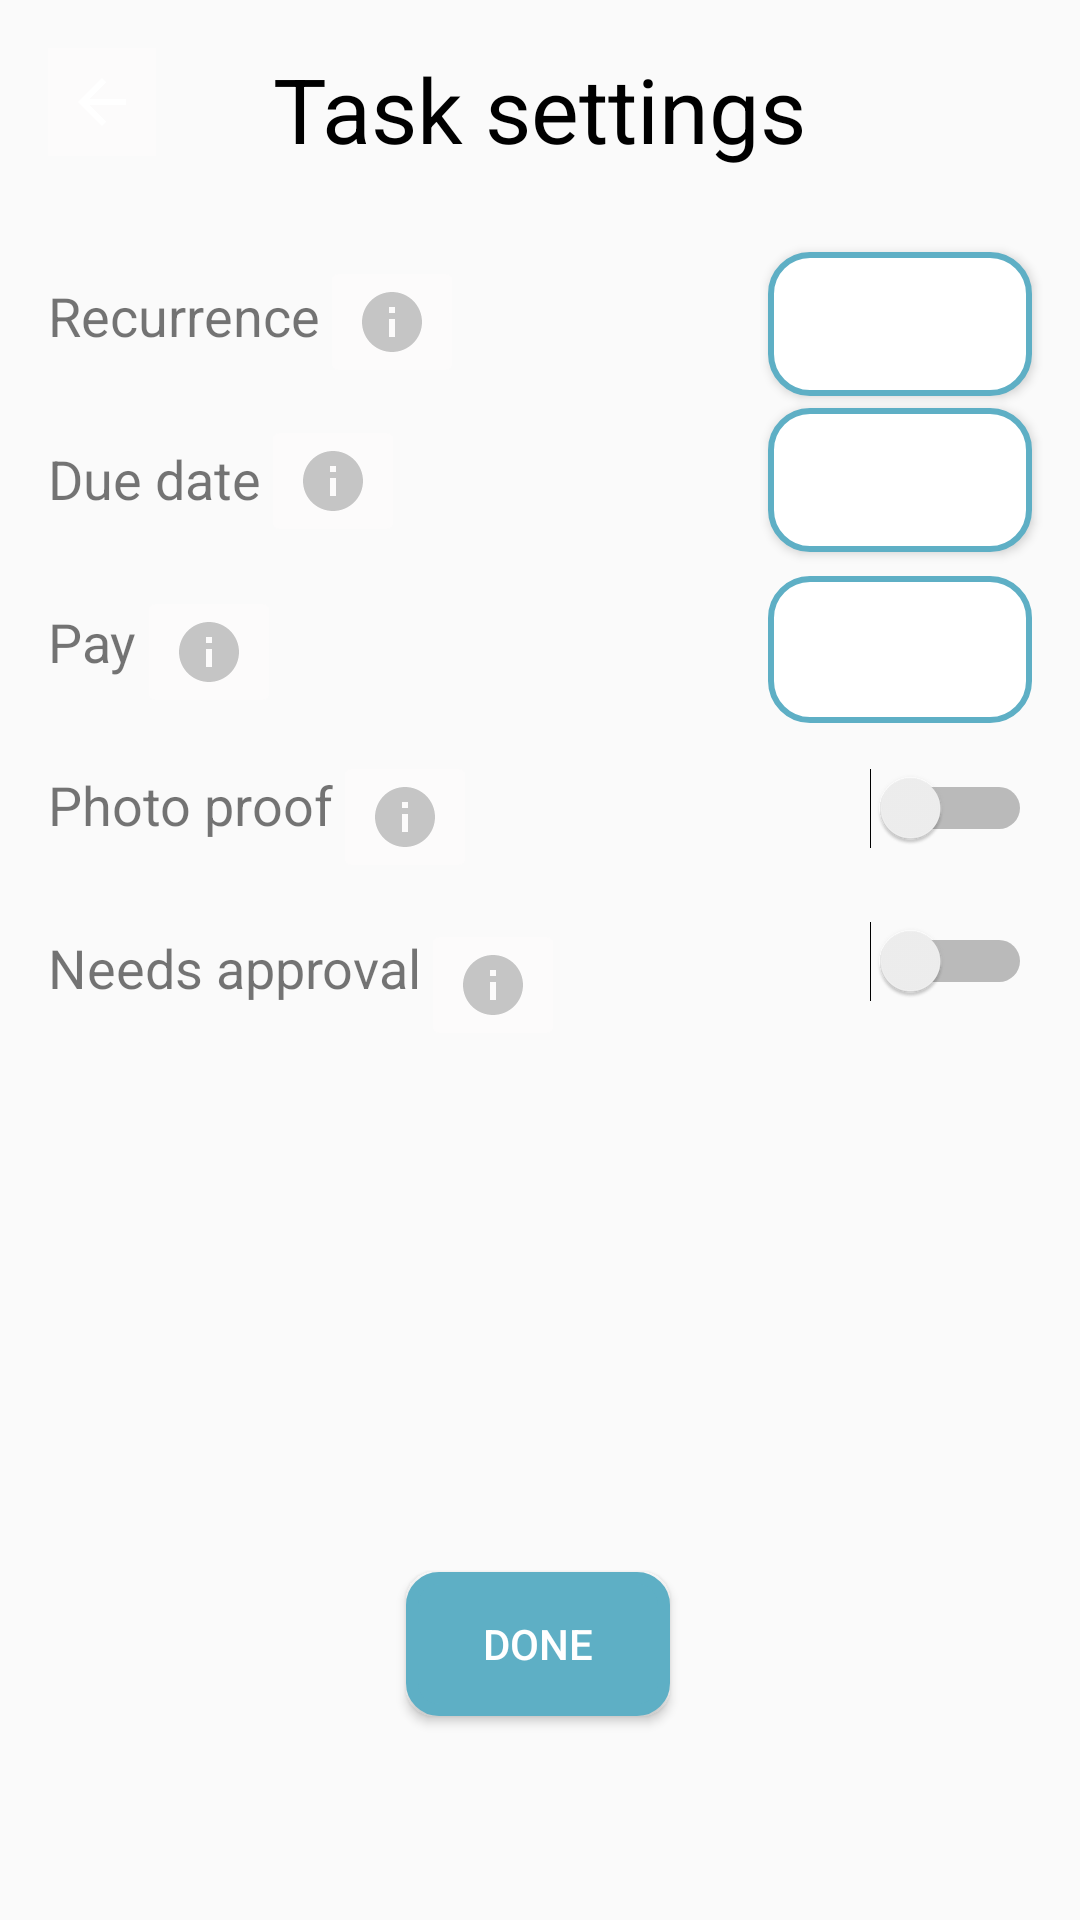

Icon bounding boxes for this 1080w x 1920h phone screenshot, format {"left": x1, "top": y1, "right": x2, "bottom": y2}:
info: {"left": 362, "top": 292, "right": 422, "bottom": 352}, {"left": 303, "top": 451, "right": 363, "bottom": 511}, {"left": 179, "top": 622, "right": 239, "bottom": 682}, {"left": 375, "top": 787, "right": 435, "bottom": 847}, {"left": 463, "top": 955, "right": 523, "bottom": 1015}
